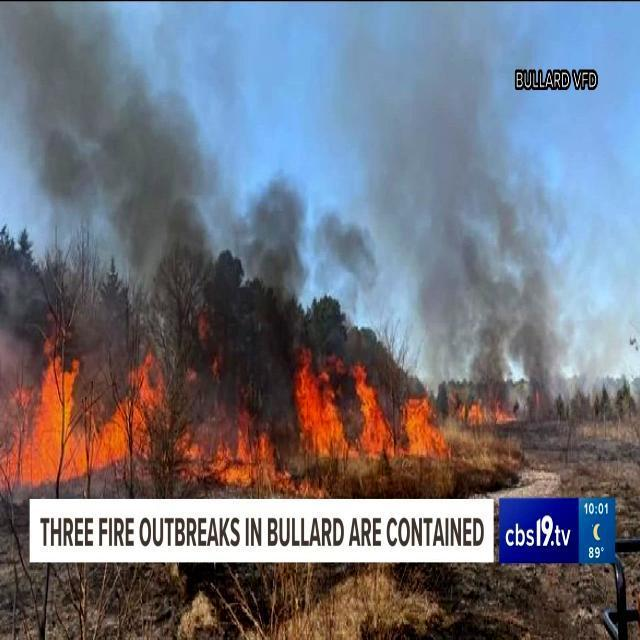Fire: (23, 344, 278, 490), (290, 354, 483, 474)
Smoke: (0, 0, 591, 415)
